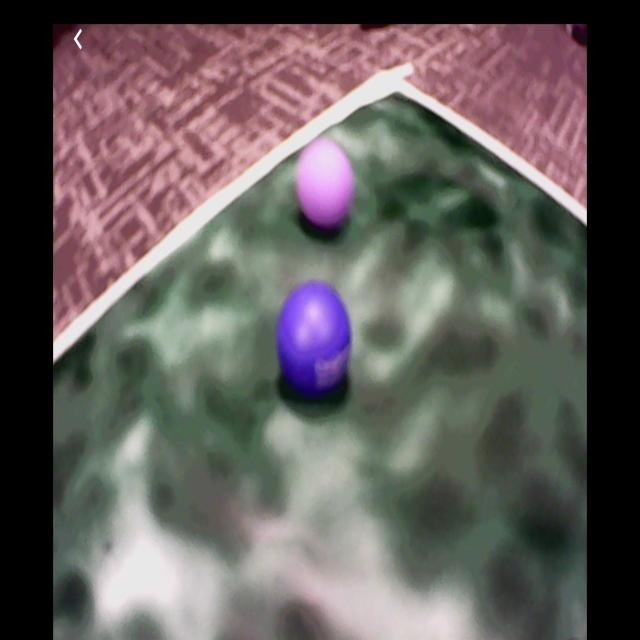ball: (277, 283, 352, 399), (299, 142, 355, 229)
